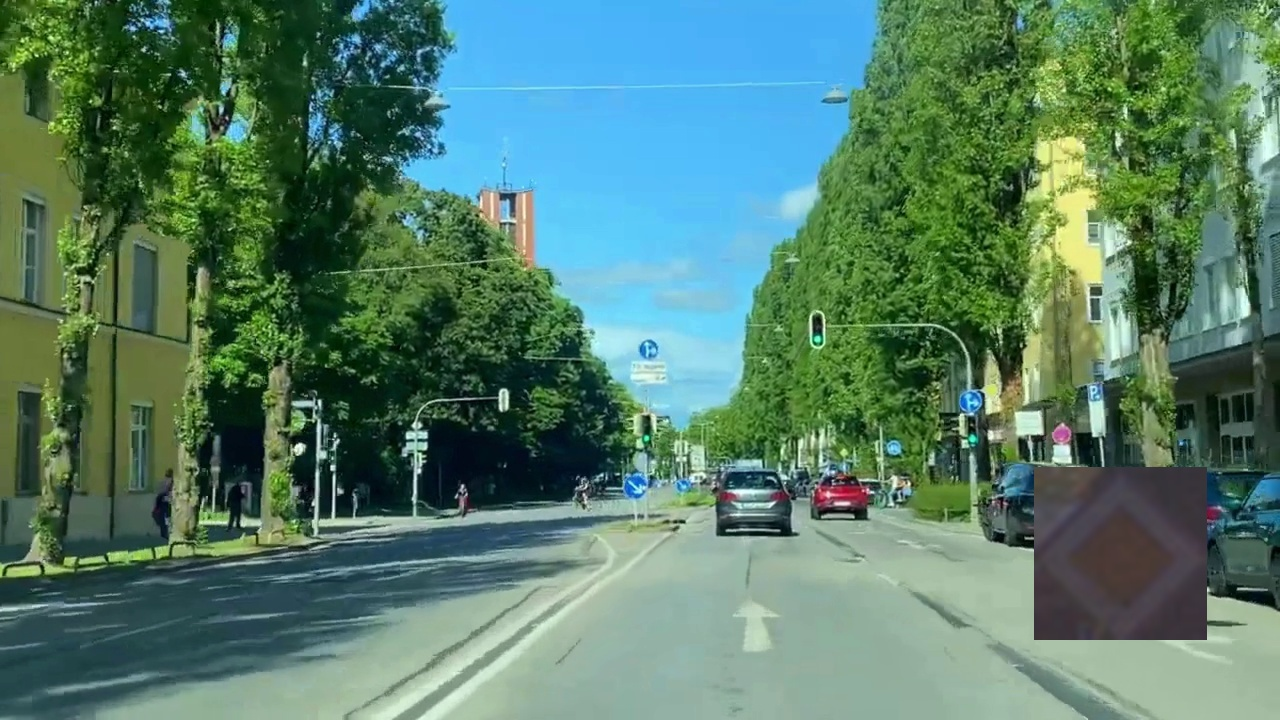Priority road: (1034, 467, 1207, 640)
